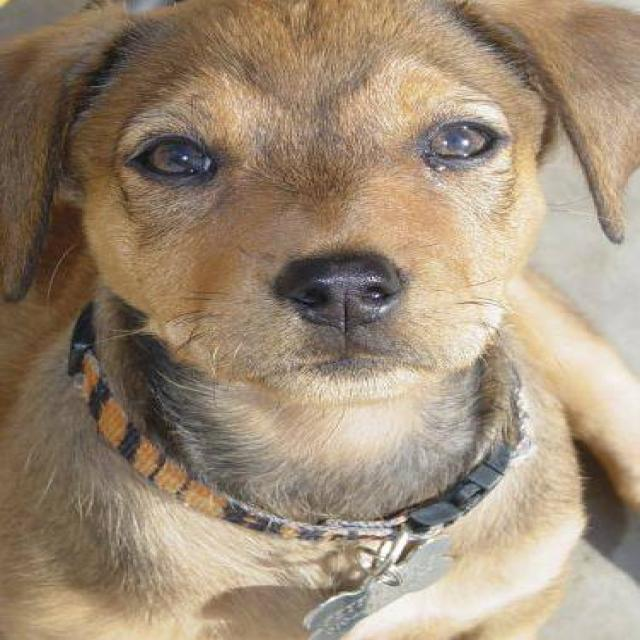puppy-dog: (2, 1, 640, 632)
